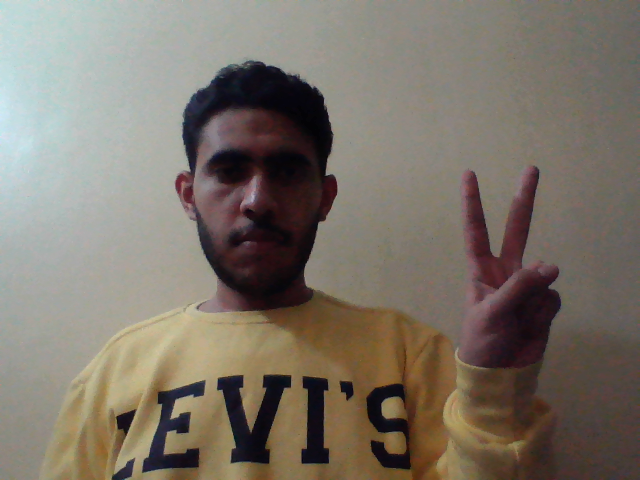V: (453, 158, 566, 381)
